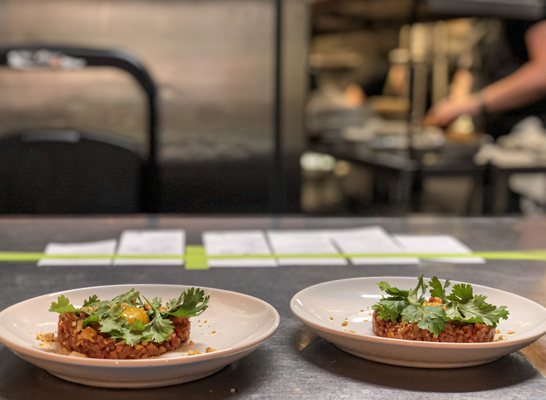sushi: (0, 286, 278, 388), (289, 274, 546, 370)
